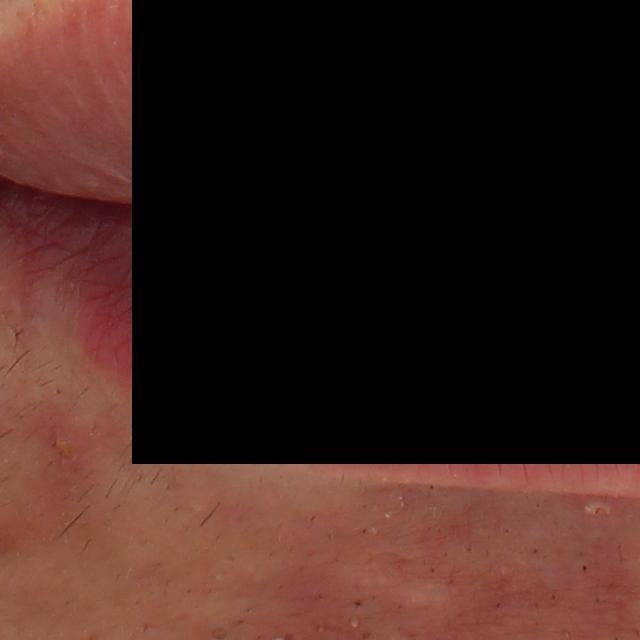hypertrophic_scar: (337, 562, 456, 609)
pustule: (571, 494, 617, 521)
